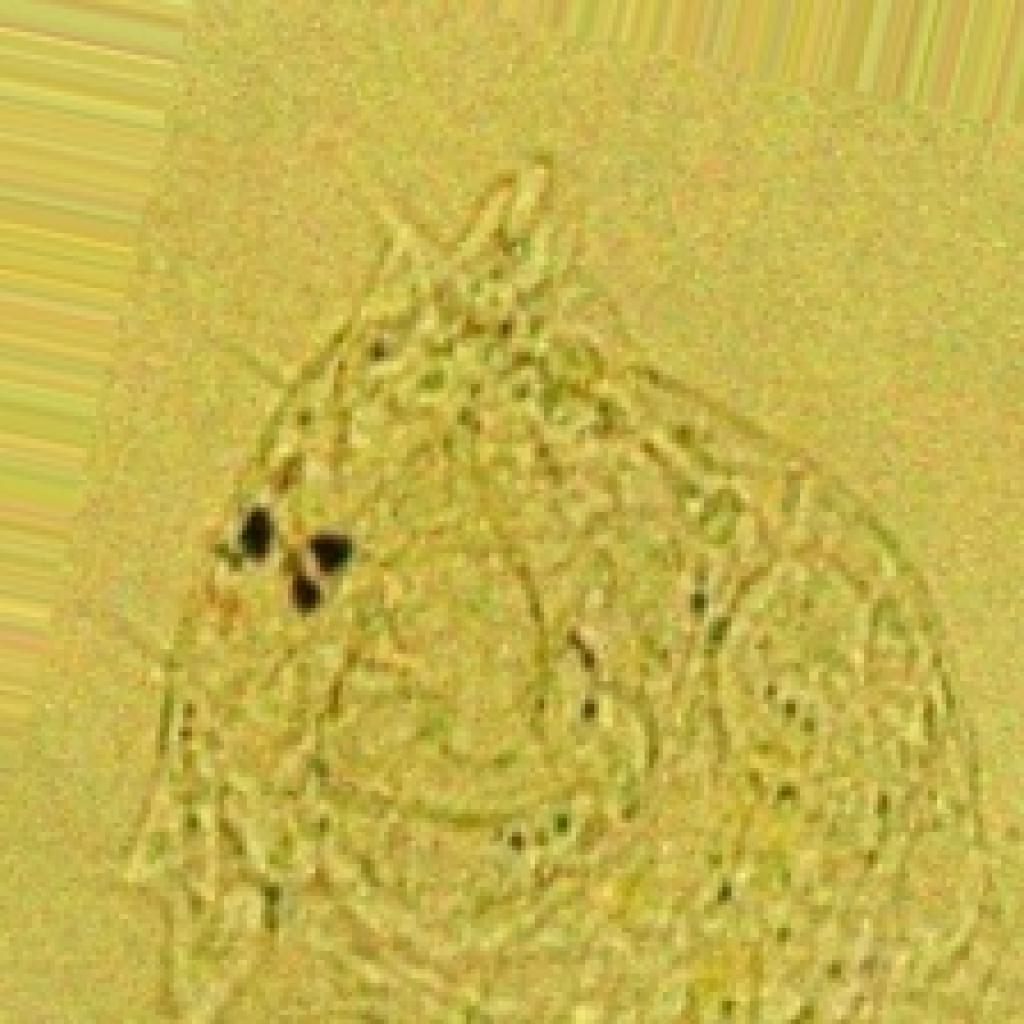Rotifer: (128, 100, 1024, 1024)
